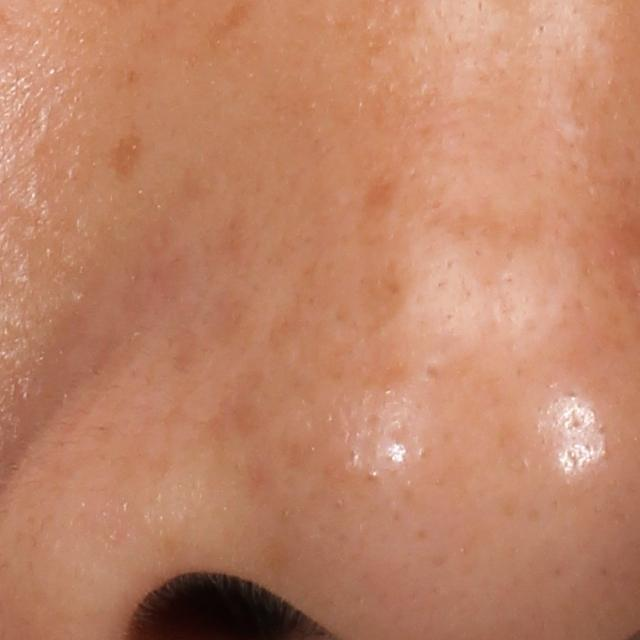melasma: (442, 197, 556, 261), (357, 257, 410, 340), (353, 169, 404, 235), (107, 131, 143, 186)
